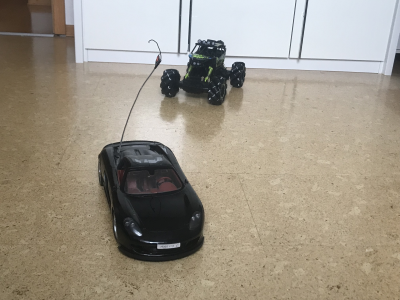remote control car: (158, 35, 247, 105)
